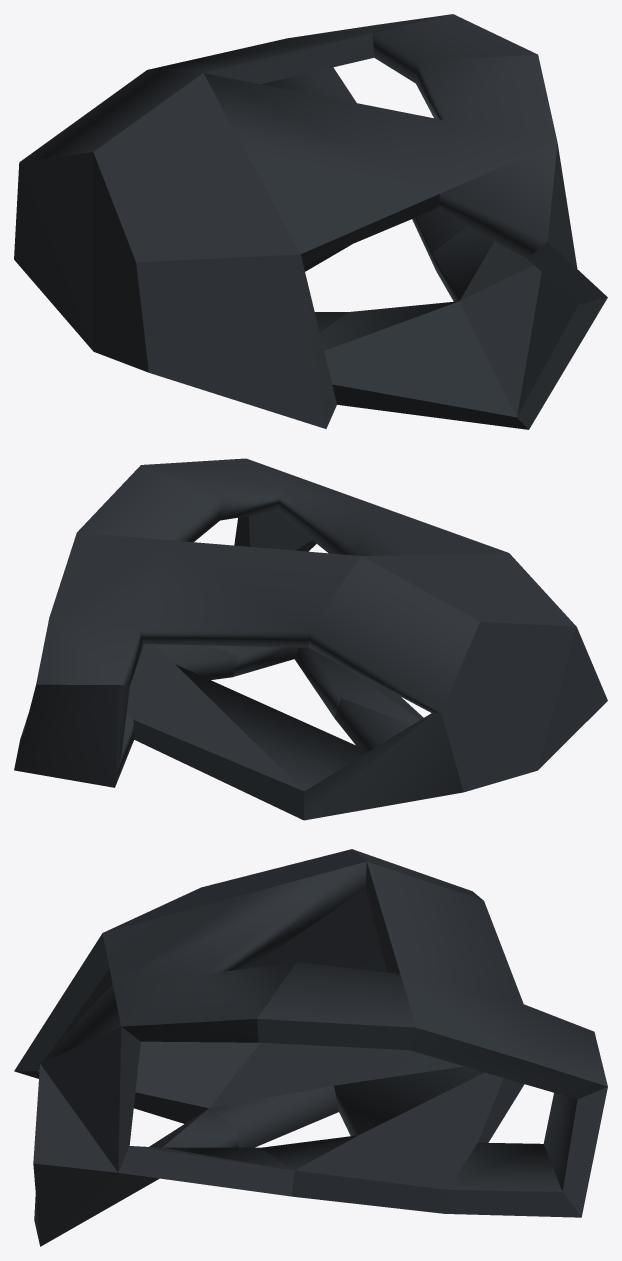
File: Chr_HandLeft_Female_10_Drop.fbx
The picture shows the model from 3 angles, top to bottom: view 1: azimuth 30°, elevation 25°; view 2: azimuth 150°, elevation 25°; view 3: azimuth 270°, elevation 25°; orthographic projection. The views are drawn at different scales.
Parts seen in each view (by area): view 1: Chr_HandLeft_Female_10_Static; view 2: Chr_HandLeft_Female_10_Static; view 3: Chr_HandLeft_Female_10_Static.
Part boxes in pixels (x1,y1,x2,y2): Chr_HandLeft_Female_10_Static: (14, 14, 607, 429); Chr_HandLeft_Female_10_Static: (14, 458, 607, 820); Chr_HandLeft_Female_10_Static: (14, 849, 607, 1246).
Bounding box in the file's own units: 11.79 × 7.05 × 12.72.
